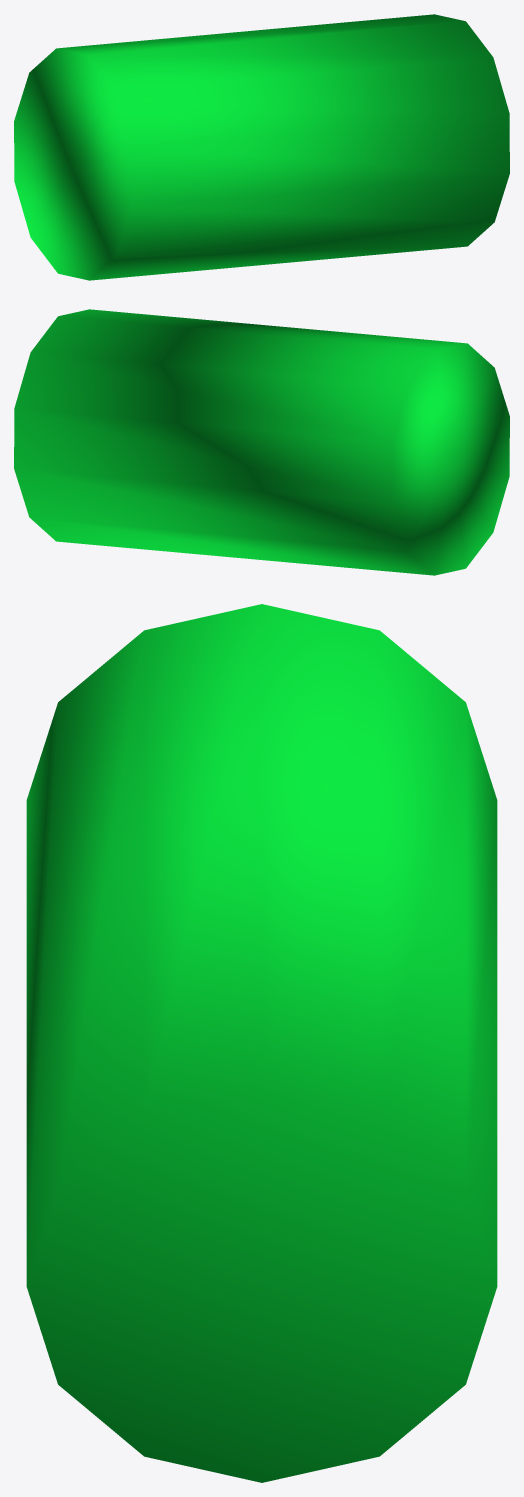
The model's file is Plunger_Box_Cylinder.fbx.
The picture shows the model from 3 angles, top to bottom: view 1: azimuth 30°, elevation 25°; view 2: azimuth 150°, elevation 25°; view 3: azimuth 270°, elevation 25°; orthographic projection. The views are drawn at different scales.
Visible parts, largest first — view 1: Plunger_Box_Cylinder; view 2: Plunger_Box_Cylinder; view 3: Plunger_Box_Cylinder.
Boxes of the visible parts, x1=… form: Plunger_Box_Cylinder: x1=14, y1=14, x2=509, y2=280; Plunger_Box_Cylinder: x1=14, y1=309, x2=509, y2=575; Plunger_Box_Cylinder: x1=26, y1=604, x2=497, y2=1482.
Bounding box in the file's own units: 3.54 × 2.24 × 1.77.
